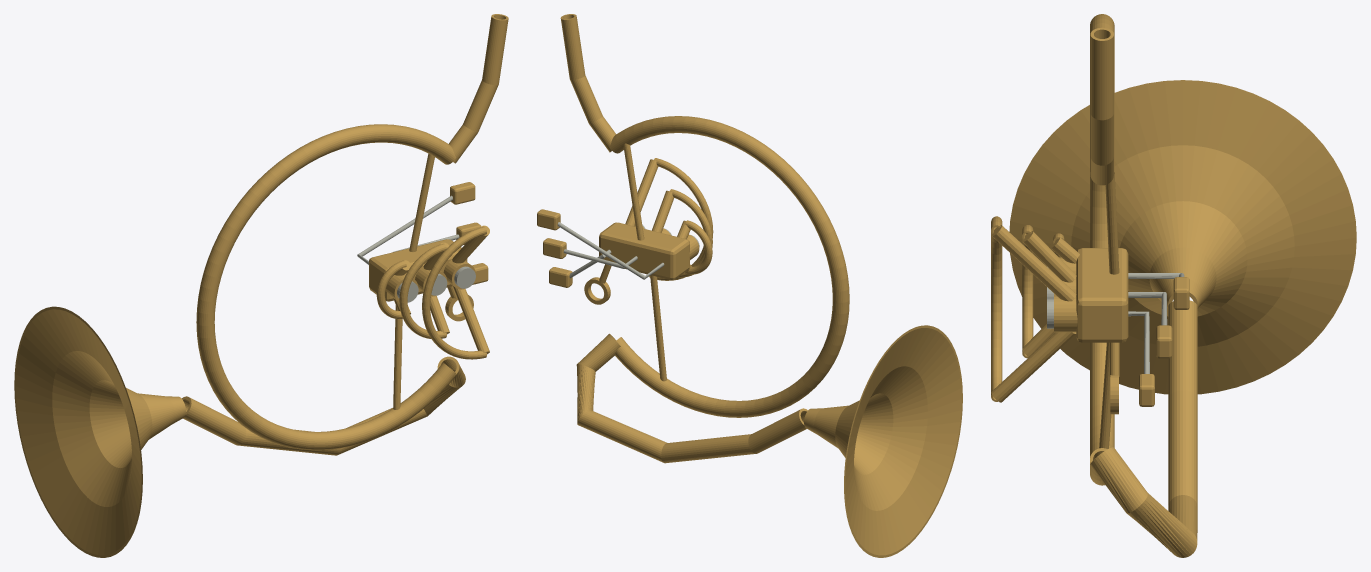
File: full.glb
3 views of the same model, side by side, from view 1: azimuth 30°, elevation 25°; view 2: azimuth 150°, elevation 25°; view 3: azimuth 270°, elevation 25° (orthographic). The views are drawn at different scales.
Parts seen in each view (by area): view 1: Hollow broad flared bell, Broad main coiled tube, Rear bell throat bend, Open rising leadpipe, Nested tuning U 2, Valve bank support, Nested tuning U 1, Valve branch lower socket 2, Upper bank brace, Lower bank brace, Nested tuning U 0; view 2: Hollow broad flared bell, Broad main coiled tube, Rear bell throat bend, Valve bank support, Open rising leadpipe, Nested tuning U 2, Lower bank brace, Upper bank brace, Nested tuning U 1, Valve branch upper socket 2, Nested tuning U 0, Lever linkage 0; view 3: Hollow broad flared bell, Rear bell throat bend, Valve bank support, Open rising leadpipe, Broad main coiled tube, Nested tuning U 2, Valve branch upper socket 2, Valve branch lower socket 2, Nested tuning U 1, Upper bank brace, Valve branch upper socket 1, Lower bank brace (+5 smaller).
Part boxes in pixels (left/top/right/bottom): Hollow broad flared bell: left=14, top=306, right=185, bottom=557; Broad main coiled tube: left=196, top=124, right=455, bottom=450; Rear bell throat bend: left=182, top=356, right=465, bottom=455; Open rising leadpipe: left=449, top=14, right=508, bottom=163; Nested tuning U 2: left=422, top=226, right=486, bottom=359; Valve bank support: left=369, top=239, right=467, bottom=301; Nested tuning U 1: left=399, top=243, right=446, bottom=338; Valve branch lower socket 2: left=453, top=286, right=489, bottom=354; Upper bank brace: left=409, top=153, right=434, bottom=251; Lower bank brace: left=393, top=305, right=402, bottom=409; Nested tuning U 0: left=376, top=260, right=406, bottom=318; Hollow broad flared bell: left=804, top=325, right=962, bottom=557; Broad main coiled tube: left=609, top=116, right=849, bottom=417; Rear bell throat bend: left=576, top=333, right=807, bottom=463; Valve bank support: left=599, top=222, right=689, bottom=279; Open rising leadpipe: left=560, top=14, right=616, bottom=152; Nested tuning U 2: left=654, top=158, right=713, bottom=280; Lower bank brace: left=650, top=275, right=666, bottom=381; Upper bank brace: left=623, top=143, right=644, bottom=240; Nested tuning U 1: left=670, top=189, right=712, bottom=277; Valve branch upper socket 2: left=625, top=159, right=658, bottom=226; Nested tuning U 0: left=685, top=220, right=712, bottom=274; Lever linkage 0: left=557, top=222, right=664, bottom=279; Hollow broad flared bell: left=1009, top=80, right=1356, bottom=394; Rear bell throat bend: left=1090, top=300, right=1197, bottom=557; Valve bank support: left=1076, top=248, right=1128, bottom=342; Open rising leadpipe: left=1090, top=27, right=1113, bottom=185; Broad main coiled tube: left=1090, top=14, right=1114, bottom=485; Nested tuning U 2: left=991, top=216, right=1002, bottom=401; Valve branch upper socket 2: left=991, top=225, right=1076, bottom=301; Valve branch lower socket 2: left=991, top=332, right=1076, bottom=402; Nested tuning U 1: left=1022, top=225, right=1033, bottom=358; Upper bank brace: left=1105, top=174, right=1119, bottom=274; Valve branch upper socket 1: left=1022, top=231, right=1076, bottom=282; Lower bank brace: left=1099, top=342, right=1111, bottom=448.
Bounding box in the file's own units: 0.5014 × 0.5515 × 0.2945.
